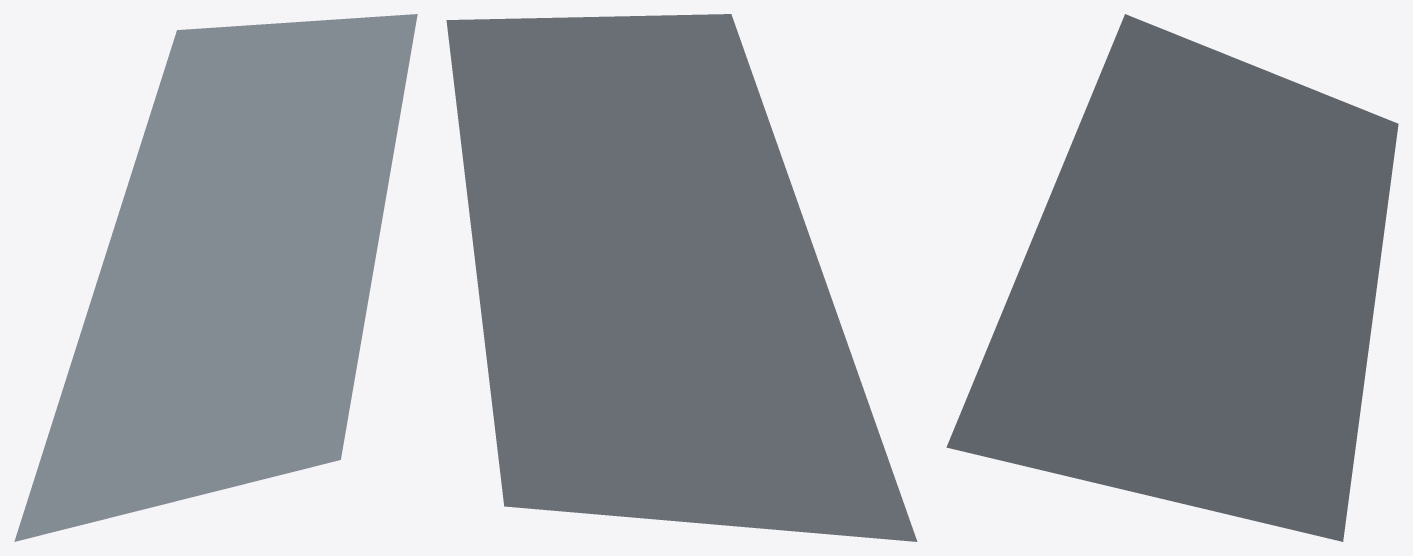
Rendered from palmar-capitohamate-ligament-r.glb.
3 renders of one model, left to right at view 1: azimuth 30°, elevation 25°; view 2: azimuth 150°, elevation 25°; view 3: azimuth 330°, elevation 25°, orthographic. The views are drawn at different scales.
Parts seen in each view (by area): view 1: Palmar capitohamate ligament.r; view 2: Palmar capitohamate ligament.r; view 3: Palmar capitohamate ligament.r.
Boxes of the visible parts, bbox=[...] form: Palmar capitohamate ligament.r: bbox=[14, 14, 417, 541]; Palmar capitohamate ligament.r: bbox=[446, 14, 917, 541]; Palmar capitohamate ligament.r: bbox=[946, 14, 1398, 541].
Bounding box in the file's own units: 0.00487 × 0.00541 × 0.000654.
